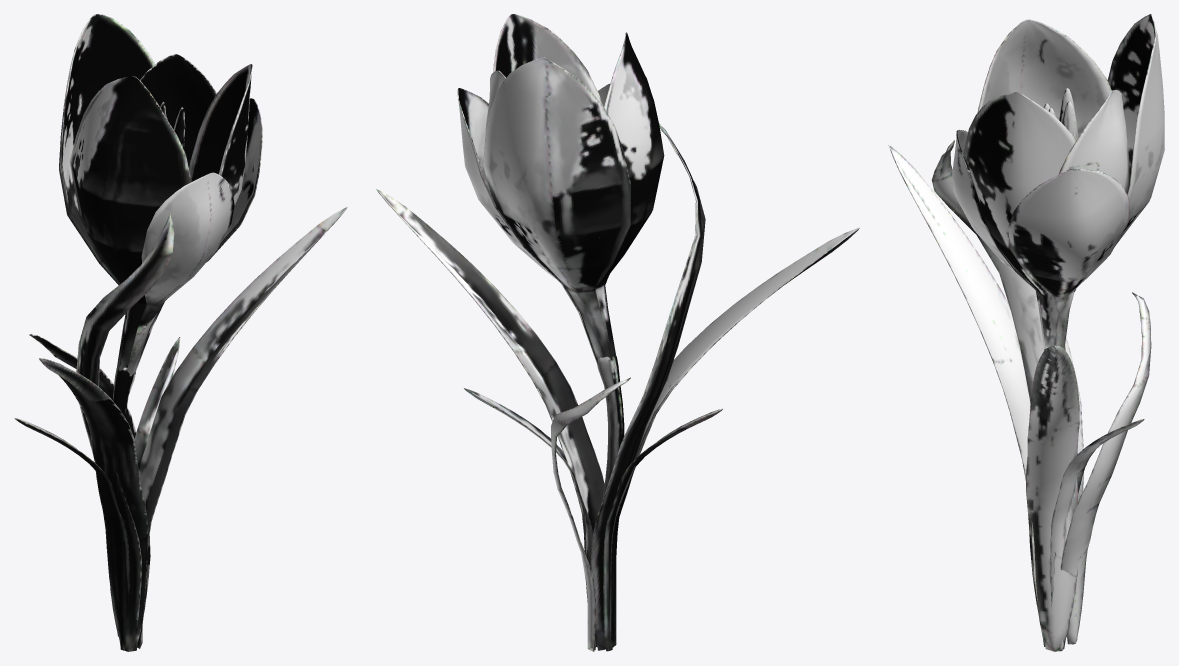
The model's file is crocus.glb.
3 renders of one model, left to right at view 1: azimuth 30°, elevation 25°; view 2: azimuth 150°, elevation 25°; view 3: azimuth 270°, elevation 25°, orthographic. The views are drawn at different scales.
Visible parts, largest first — view 1: crocus; view 2: crocus; view 3: crocus.
Boxes of the visible parts, box(x1,y1,x2,y2) form: crocus: box(14, 14, 347, 651); crocus: box(376, 14, 859, 651); crocus: box(888, 14, 1164, 651).
Size of the model in its own units: 0.5874 by 0.87 by 0.341.
4 materials, 4 textured.
